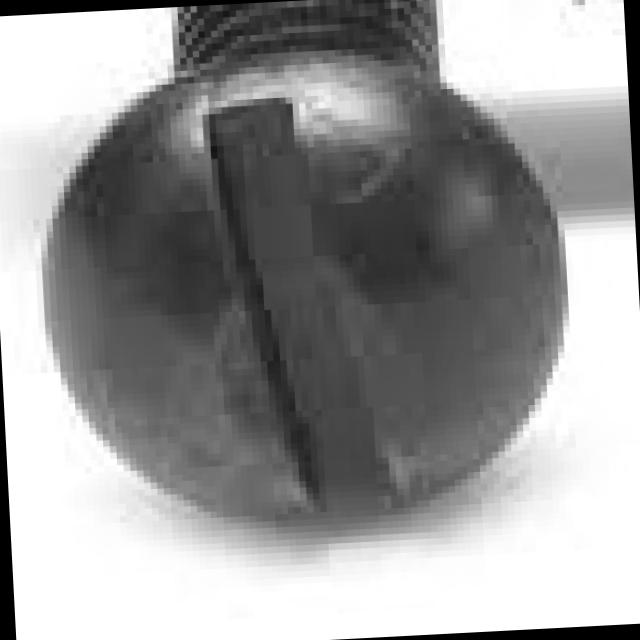Slotted: (30, 70, 588, 568)
